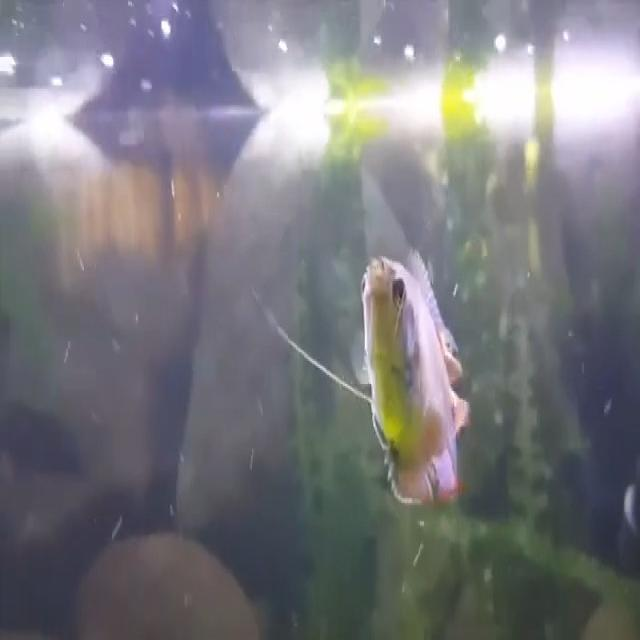fish: (361, 242, 471, 526)
